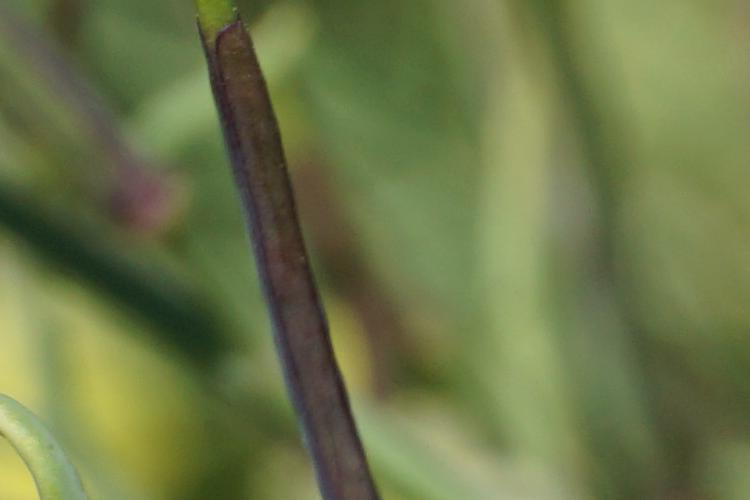pod: (193, 8, 380, 494)
